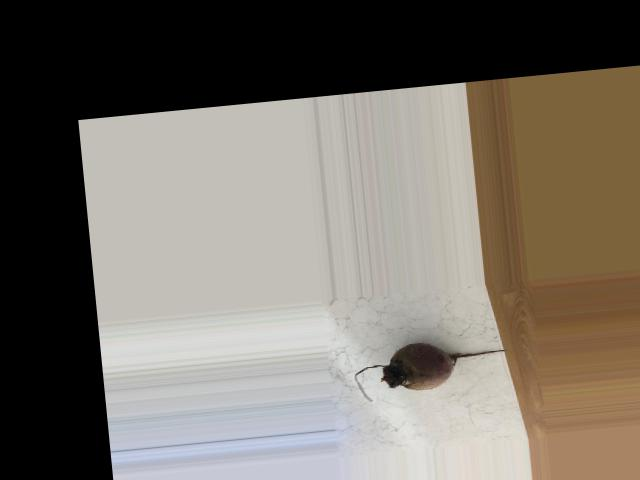beet: (353, 334, 511, 402)
